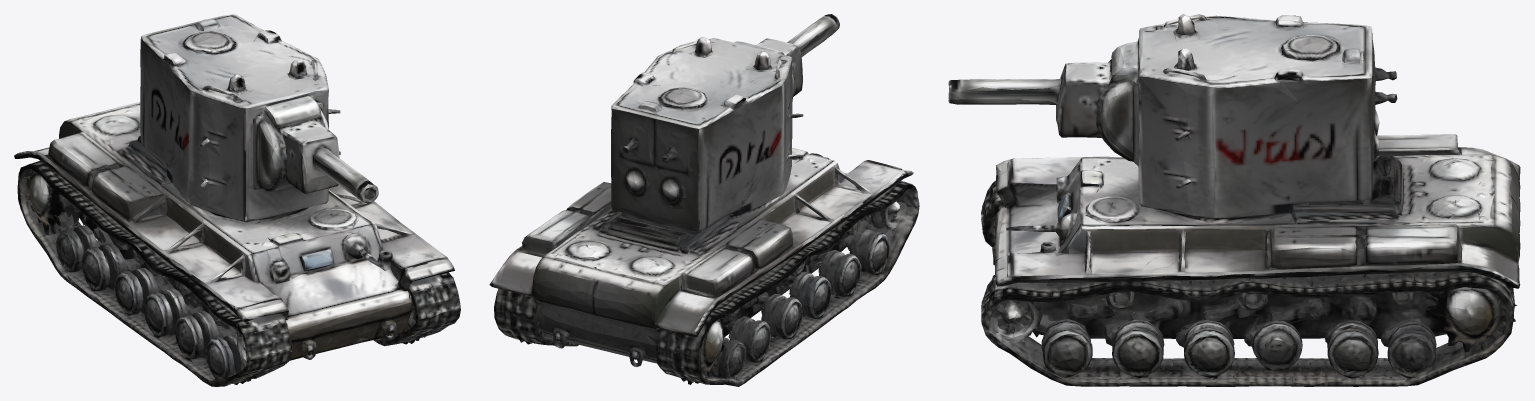
File: AnimePistol_Textured_10503.glb
The picture shows the model from 3 angles, left to right: view 1: azimuth 30°, elevation 25°; view 2: azimuth 150°, elevation 25°; view 3: azimuth 270°, elevation 25°; orthographic projection. The views are drawn at different scales.
Visible parts, largest first — view 1: world; view 2: world; view 3: world.
Boxes of the visible parts, x1,y1,x2,y2 form: world: (14, 14, 460, 386); world: (489, 14, 919, 386); world: (948, 14, 1520, 386).
Bounding box in the file's own units: 0.5066 × 0.5771 × 1.
Materials: 1 (1 with a texture image).
